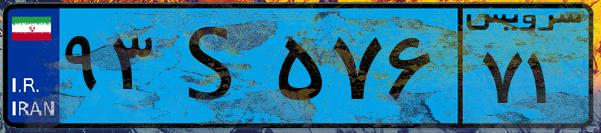1: (525, 38, 570, 115)
3: (110, 28, 158, 98)
5: (270, 28, 330, 110)
6: (385, 28, 445, 110)
7: (330, 28, 385, 110), (475, 38, 525, 113)
9: (57, 26, 110, 100)
S: (158, 12, 270, 120)
